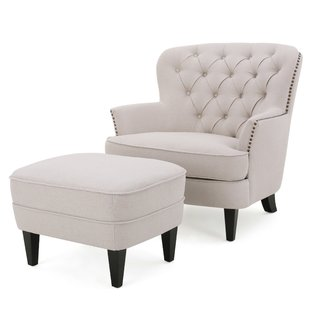chairs: (107, 42, 304, 244), (9, 152, 189, 290)
